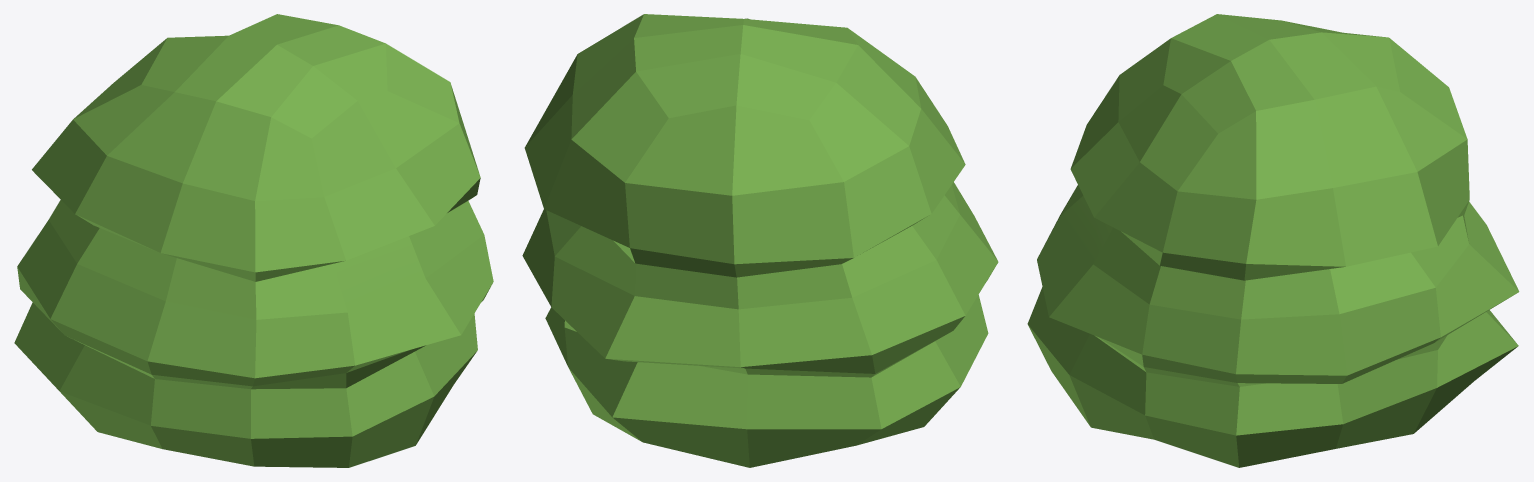
The model's file is Bush_2.glb.
3 views of the same model, side by side, from view 1: azimuth 30°, elevation 25°; view 2: azimuth 150°, elevation 25°; view 3: azimuth 270°, elevation 25° (orthographic). The views are drawn at different scales.
Visible parts, largest first — view 1: Bush_2; view 2: Bush_2; view 3: Bush_2.
Boxes of the visible parts, x1,y1,x2,y2 form: Bush_2: (14,14,493,467); Bush_2: (522,14,998,467); Bush_2: (1027,14,1519,467).
Bounding box in the file's own units: 1.4 × 1.17 × 1.42.
